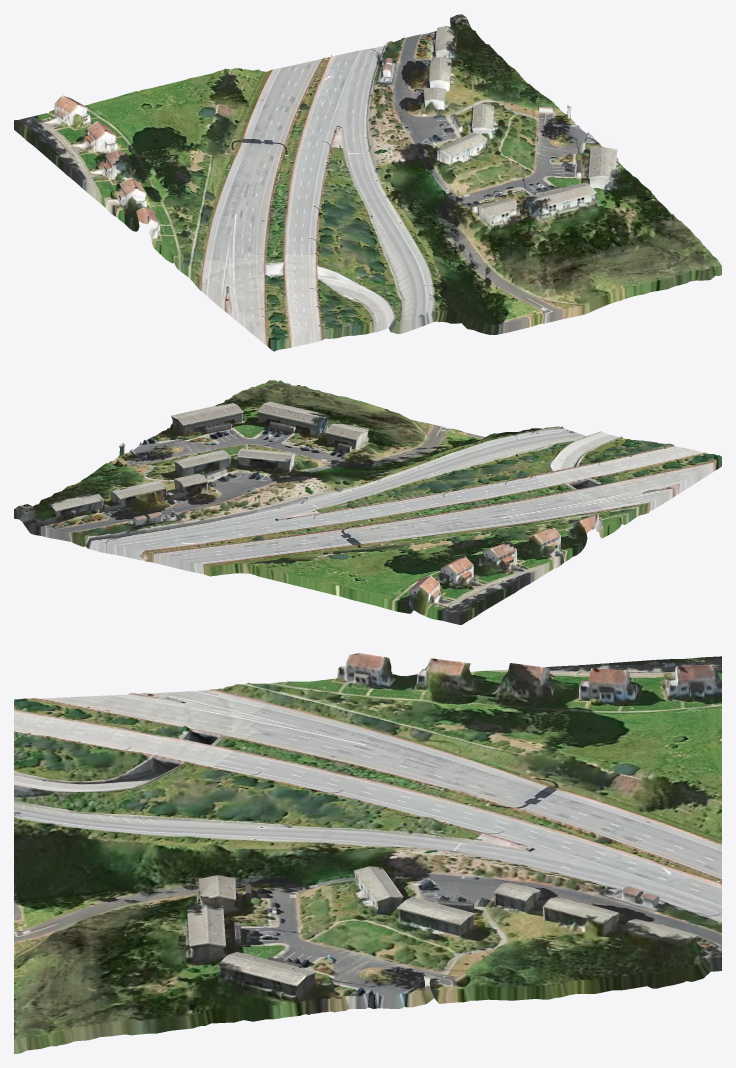
Rendered from z17-20945-50648-h0-yup-uvflip-v3-world.glb.
3 views of the same model, one above another, from view 1: azimuth 30°, elevation 25°; view 2: azimuth 150°, elevation 25°; view 3: azimuth 270°, elevation 25° (orthographic). The views are drawn at different scales.
Size of the model in its own units: 241 by 49.28 by 243.
Materials: 1 (1 with a texture image).
